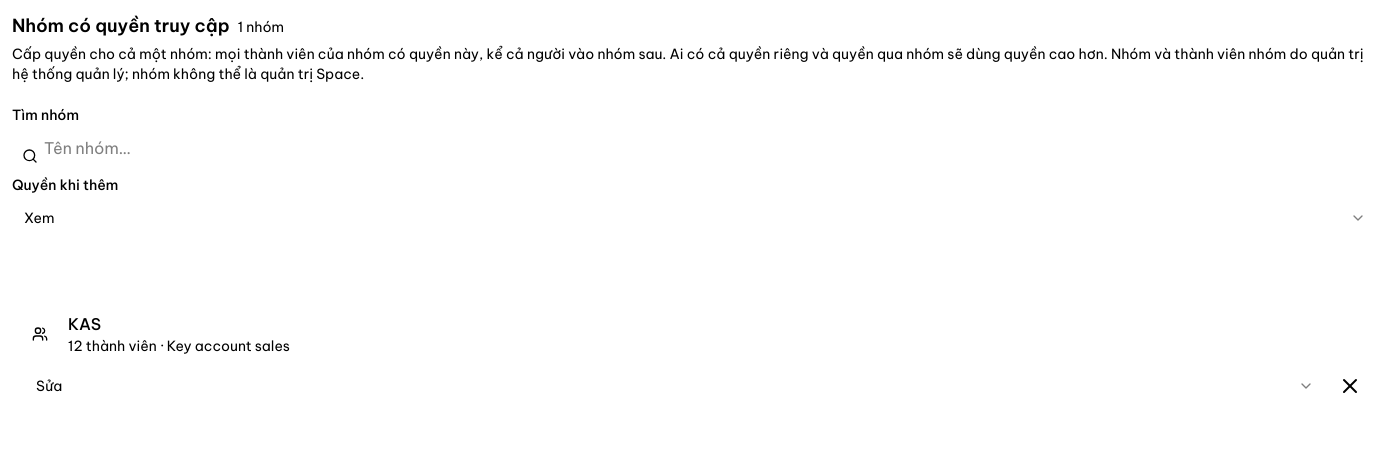
Test: GroupAccessSettings › changes the role of a group, reverting on error
The width and height of the screenshot is (1390, 465).
Click the dropdown named "Quyền của nhóm KAS" at point(49, 386), box [24, 368, 1326, 404]
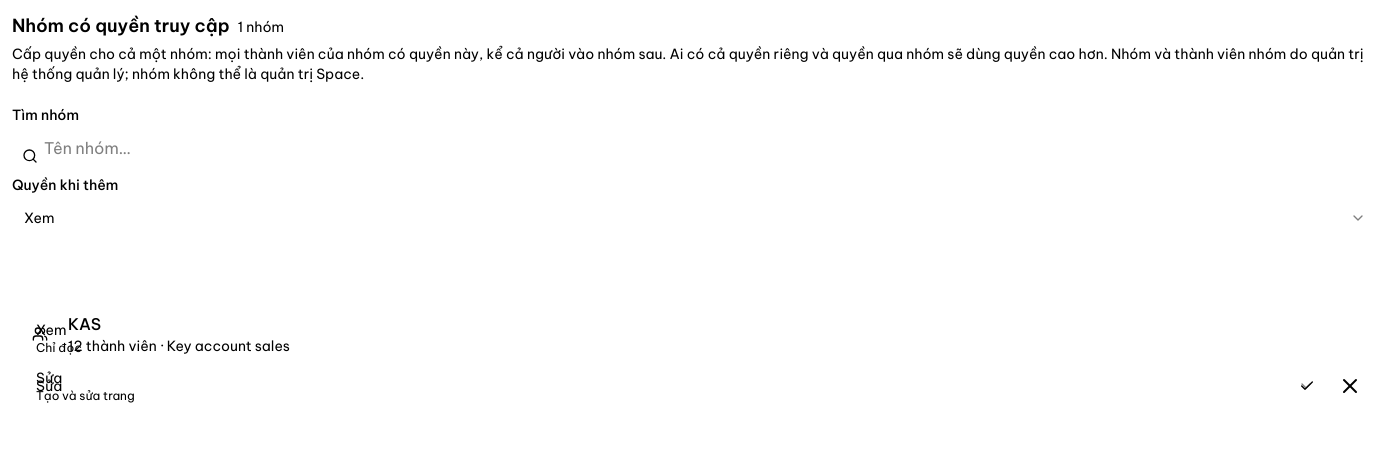
Click the option "Xem Chỉ đọc" at point(59, 338), box [36, 321, 82, 355]
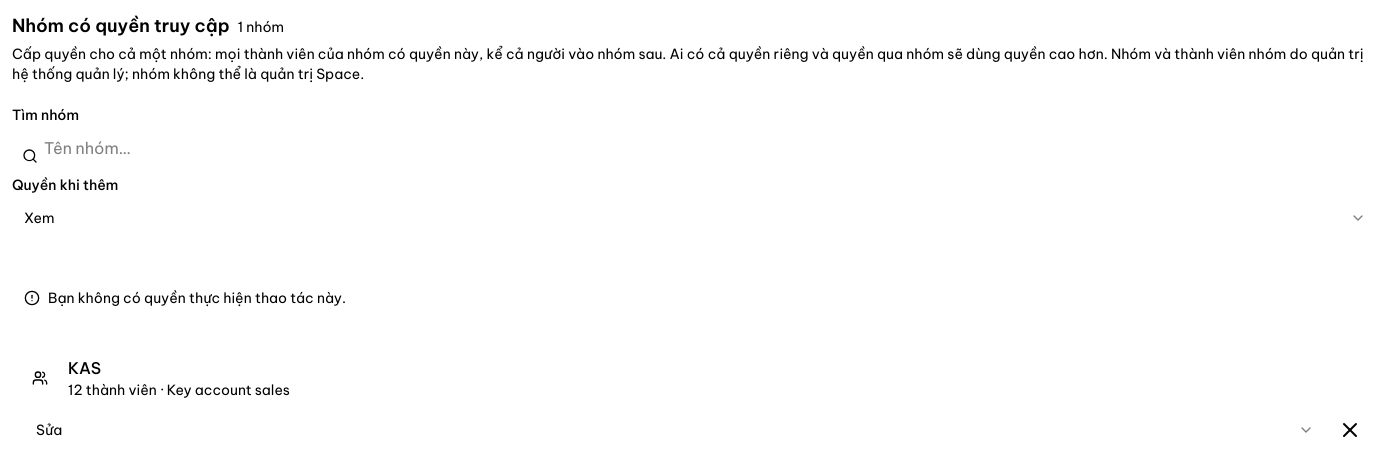
Result: the message reads "Bạn không có quyền thực hiện thao tác này." at [48, 289, 346, 307]
Click the dropdown named "Quyền của nhóm KAS" at point(49, 430), box [24, 412, 1326, 448]
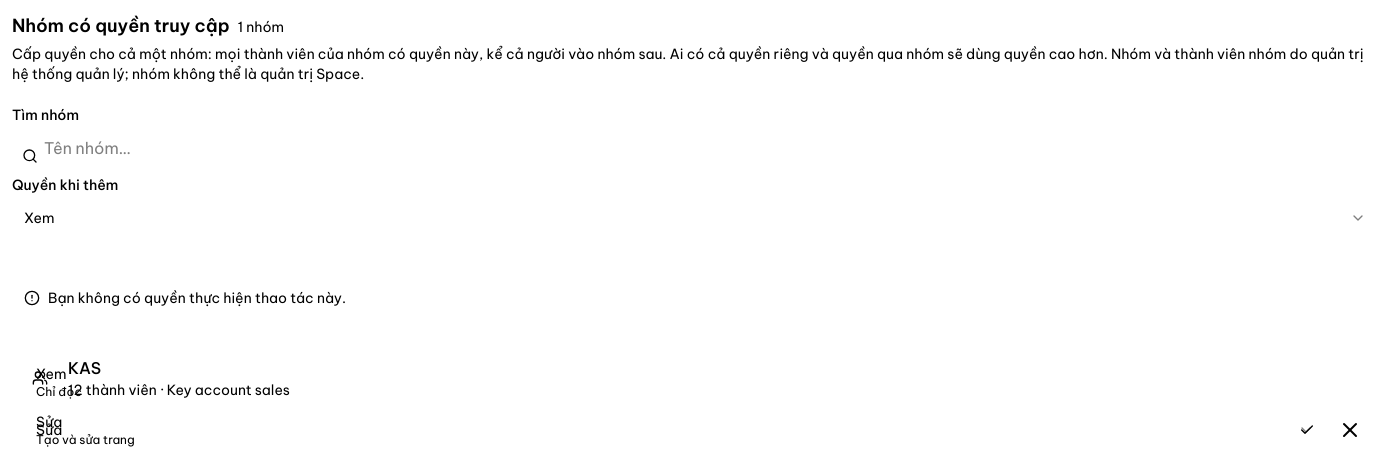
Click the option "Xem Chỉ đọc" at point(59, 382), box [36, 365, 82, 399]
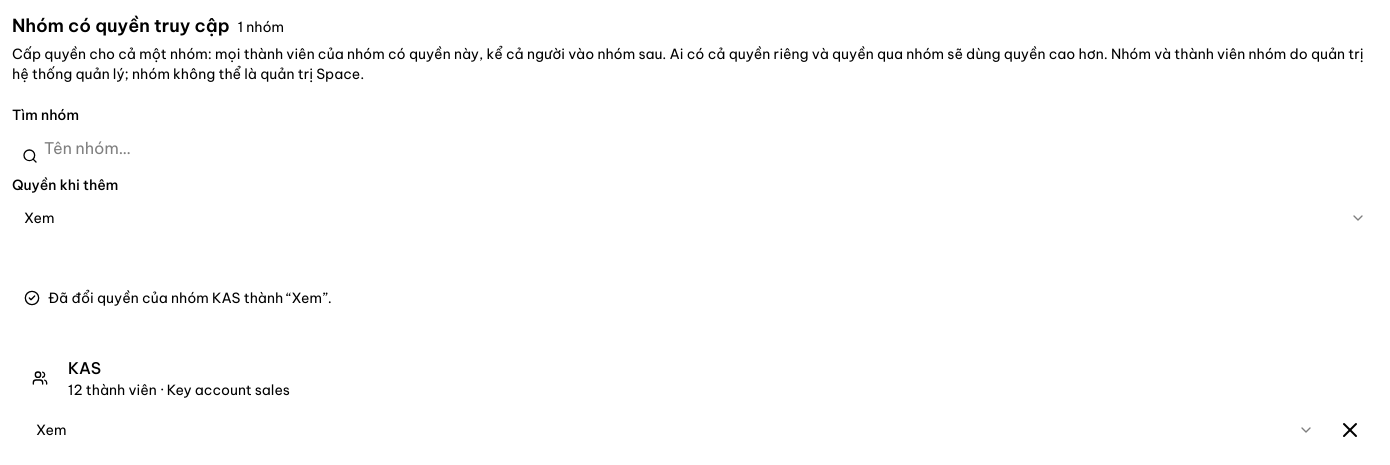
Result: the text "Đã đổi quyền của nhóm KAS thành “Xem”." is shown at [48, 288, 332, 308]
